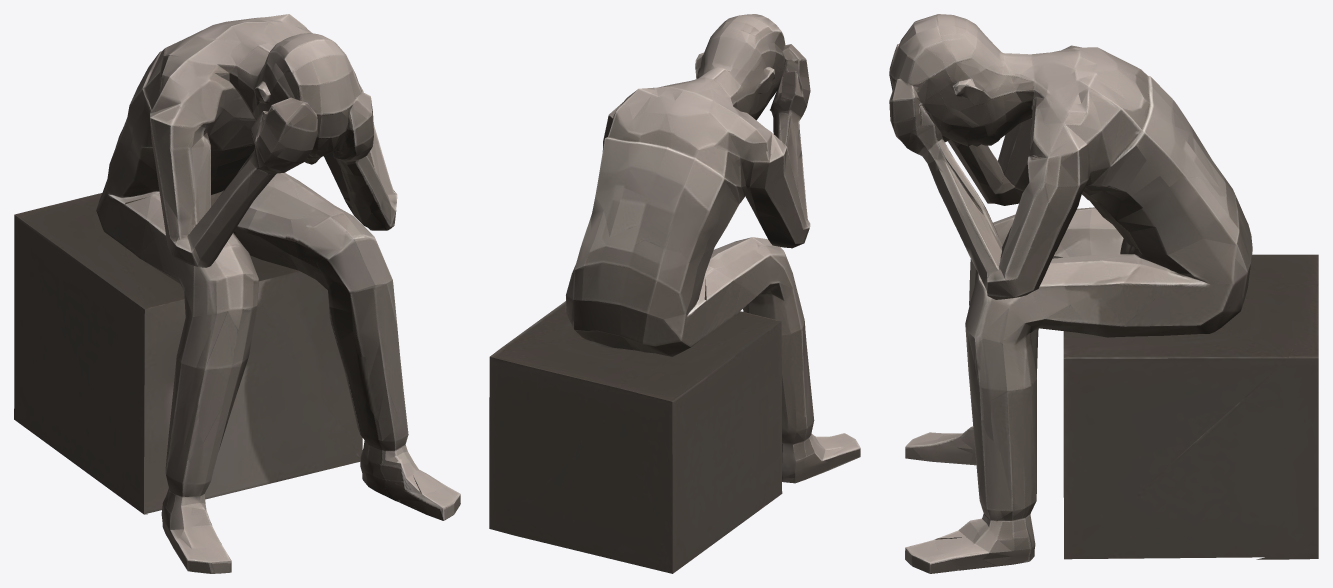
File: sad-kid.glb
The picture shows the model from 3 angles, left to right: view 1: azimuth 30°, elevation 25°; view 2: azimuth 150°, elevation 25°; view 3: azimuth 270°, elevation 25°; orthographic projection. The views are drawn at different scales.
Parts seen in each view (by area): view 1: output_unwrapped; view 2: output_unwrapped; view 3: output_unwrapped.
Part boxes in pixels (bbox=[...]): output_unwrapped: bbox=[14, 14, 460, 573]; output_unwrapped: bbox=[489, 14, 860, 573]; output_unwrapped: bbox=[889, 14, 1318, 573].
Size of the model in its own units: 0.0692 by 0.12 by 0.0961.
1 material, 1 textured.
